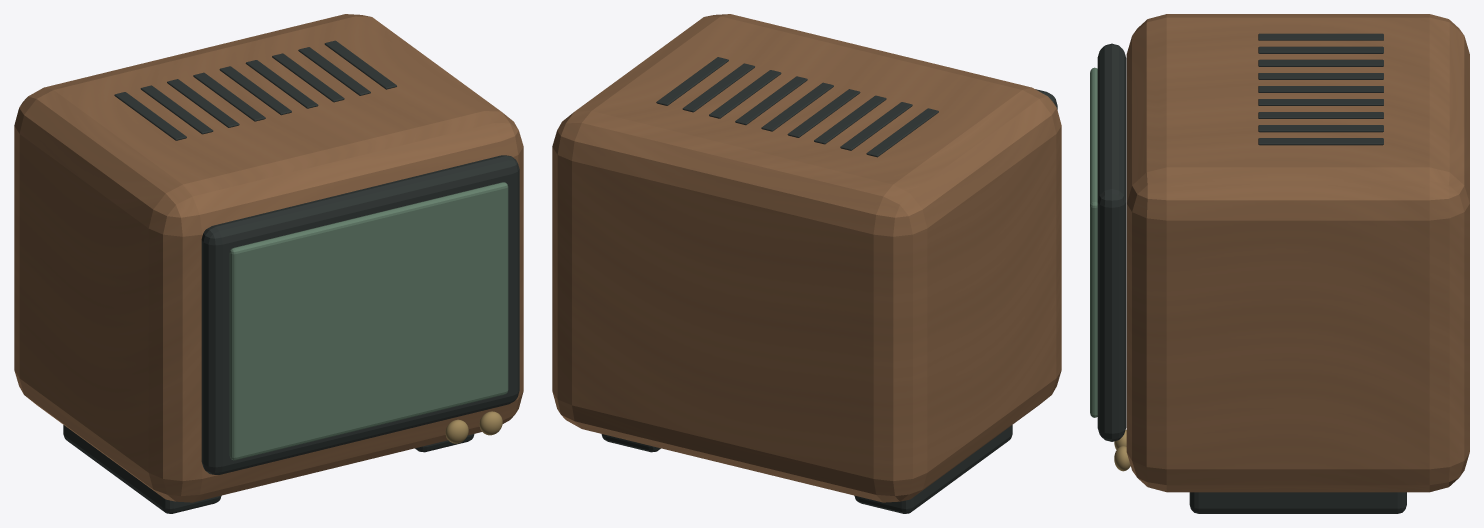
Rendered from crt-2.glb.
3 renders of one model, left to right at view 1: azimuth 30°, elevation 25°; view 2: azimuth 150°, elevation 25°; view 3: azimuth 270°, elevation 25°, orthographic.
Visible parts, largest first — view 1: Rounded CRT body, Screen surface, Screen bezel, Foot, Top vent.001, Top vent.002, Top vent.006, Top vent.003, Top vent, Top vent.004, Top vent.005, Top vent.007 (+1 smaller); view 2: Rounded CRT body, Foot, Top vent, Top vent.002, Top vent.005, Top vent.007, Top vent.003, Top vent.008, Top vent.004, Top vent.001, Top vent.006; view 3: Rounded CRT body, Screen bezel, Foot.001, Screen surface, Top vent, Top vent.001, Top vent.002, Top vent.007, Top vent.008, Top vent.003, Top vent.004, Top vent.005 (+1 smaller).
Part boxes in pixels (left/top/right/bottom): Rounded CRT body: left=14, top=14, right=523, bottom=502; Screen surface: left=229, top=182, right=508, bottom=460; Screen bezel: left=201, top=155, right=519, bottom=474; Foot: left=63, top=425, right=221, bottom=513; Top vent.001: left=140, top=85, right=213, bottom=134; Top vent.002: left=167, top=79, right=239, bottom=127; Top vent.006: left=272, top=53, right=344, bottom=102; Top vent.003: left=193, top=72, right=265, bottom=121; Top vent: left=114, top=92, right=186, bottom=140; Top vent.004: left=219, top=66, right=291, bottom=115; Top vent.005: left=245, top=60, right=318, bottom=108; Top vent.007: left=298, top=47, right=370, bottom=95; Rounded CRT body: left=552, top=14, right=1061, bottom=502; Foot: left=854, top=425, right=1012, bottom=513; Top vent: left=866, top=108, right=938, bottom=157; Top vent.002: left=814, top=95, right=886, bottom=144; Top vent.005: left=735, top=76, right=807, bottom=125; Top vent.007: left=682, top=63, right=754, bottom=112; Top vent.003: left=787, top=89, right=860, bottom=137; Top vent.008: left=656, top=57, right=728, bottom=105; Top vent.004: left=761, top=82, right=833, bottom=131; Top vent.001: left=840, top=102, right=912, bottom=150; Top vent.006: left=709, top=70, right=781, bottom=118; Rounded CRT body: left=1126, top=14, right=1469, bottom=492; Screen bezel: left=1097, top=43, right=1126, bottom=441; Foot.001: left=1189, top=492, right=1406, bottom=513; Screen surface: left=1090, top=67, right=1097, bottom=417; Top vent: left=1258, top=33, right=1383, bottom=40; Top vent.001: left=1258, top=46, right=1383, bottom=53; Top vent.002: left=1258, top=59, right=1383, bottom=66; Top vent.007: left=1258, top=125, right=1383, bottom=132; Top vent.008: left=1258, top=138, right=1383, bottom=145; Top vent.003: left=1258, top=73, right=1383, bottom=79; Top vent.004: left=1258, top=86, right=1383, bottom=92; Top vent.005: left=1258, top=99, right=1383, bottom=105.
Bounding box in the file's own units: 0.38 × 0.338 × 0.332.
Materials: 4 (1 with a texture image).
